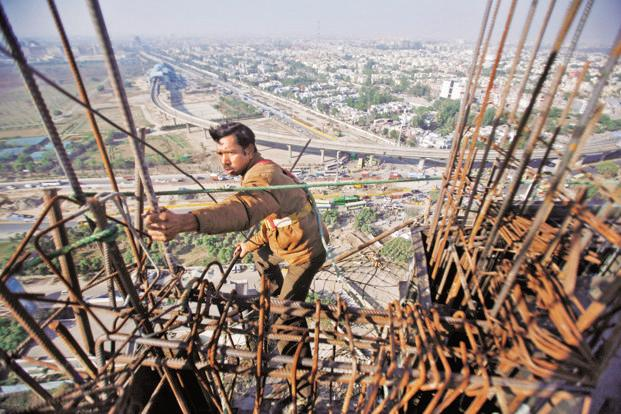NOTSAFE: (211, 120, 330, 263)
